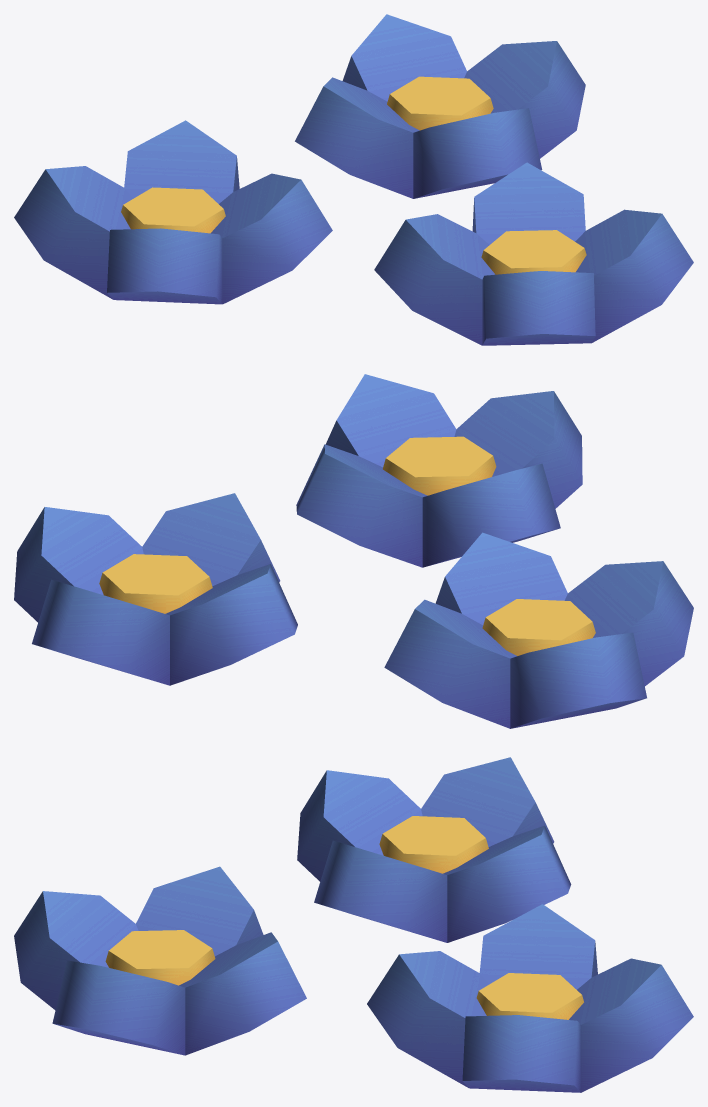
The model's file is flowers.glb.
3 views of the same model, one above another, from view 1: azimuth 30°, elevation 25°; view 2: azimuth 150°, elevation 25°; view 3: azimuth 270°, elevation 25° (orthographic). The views are drawn at different scales.
Visible parts, largest first — view 1: Group (×3); view 2: Group (×3); view 3: Group (×3).
Boxes of the visible parts, bbox=[...] form: Group (×3): bbox=[14, 14, 693, 345]; Group (×3): bbox=[14, 374, 693, 728]; Group (×3): bbox=[14, 757, 693, 1092].
Bounding box in the file's own units: 0.7766 × 0.137 × 0.7857.
1 material, 1 textured.
